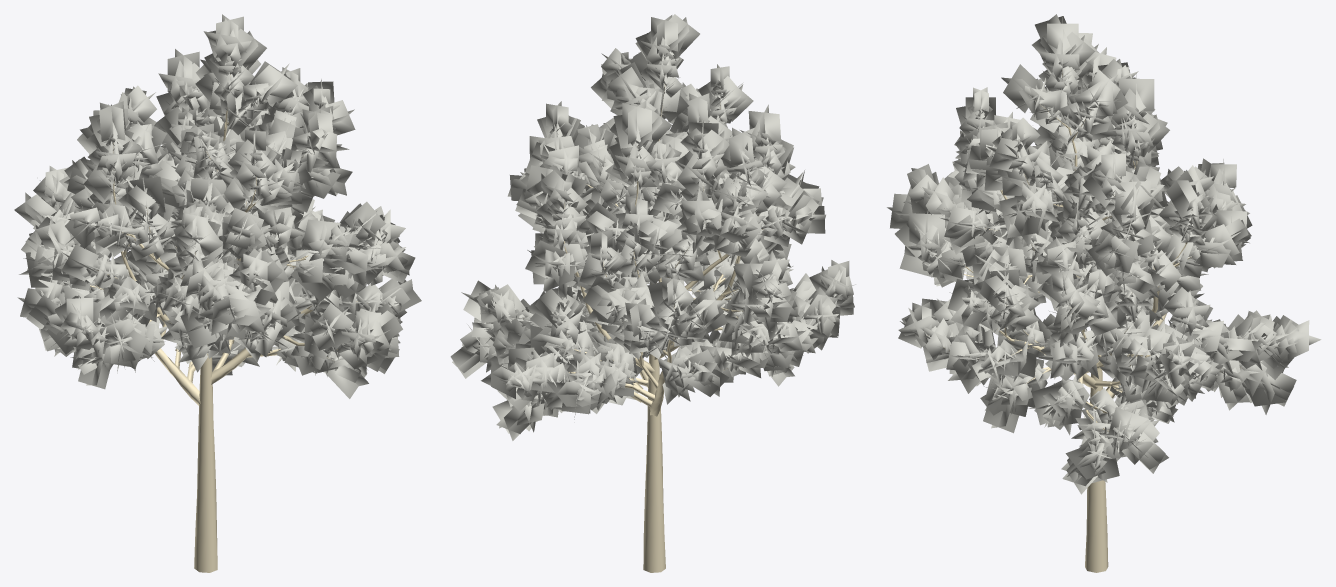
Rendered from oak_medium_v0_lod0.glb.
The picture shows the model from 3 angles, left to right: view 1: azimuth 30°, elevation 25°; view 2: azimuth 150°, elevation 25°; view 3: azimuth 270°, elevation 25°; orthographic projection. The views are drawn at different scales.
Parts seen in each view (by area): view 1: Leaves, Branches; view 2: Leaves, Branches; view 3: Leaves, Branches.
Boxes of the visible parts, box(x1,y1,x2,y2) form: Leaves: box(14, 14, 421, 398); Branches: box(90, 75, 367, 572); Leaves: box(450, 14, 855, 440); Branches: box(564, 84, 791, 572); Leaves: box(887, 14, 1321, 494); Branches: box(927, 70, 1241, 572).
Bounding box in the file's own units: 49.85 × 71.77 × 51.21.
